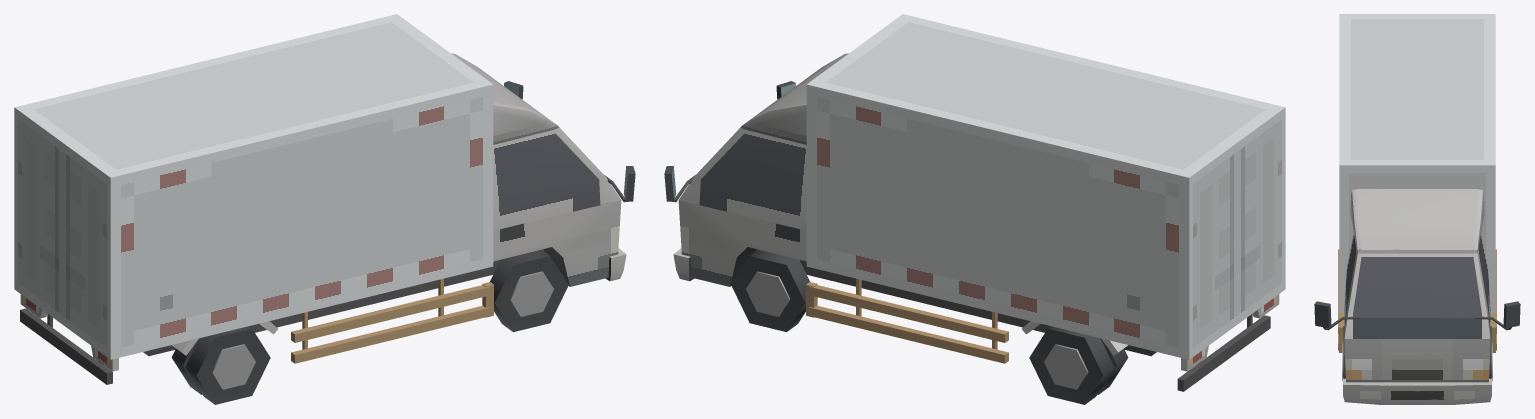
File: Universal_Transportation_MediumTruck_01_Mod.fbx
3 views of the same model, side by side, from view 1: azimuth 30°, elevation 25°; view 2: azimuth 150°, elevation 25°; view 3: azimuth 270°, elevation 25° (orthographic). The views are drawn at different scales.
Visible parts, largest first — view 1: Universal_Transportation_MediumTruck_01_Mod, Universal_Transportation_MediumTruck_FrontWheel_01; view 2: Universal_Transportation_MediumTruck_01_Mod, Universal_Transportation_MediumTruck_FrontWheel_02; view 3: Universal_Transportation_MediumTruck_01_Mod.
Part boxes in pixels (box(x1,y1,x2,y2)): Universal_Transportation_MediumTruck_01_Mod: box(14, 14, 635, 404); Universal_Transportation_MediumTruck_FrontWheel_01: box(490, 249, 568, 332); Universal_Transportation_MediumTruck_01_Mod: box(664, 14, 1285, 404); Universal_Transportation_MediumTruck_FrontWheel_02: box(731, 249, 809, 332); Universal_Transportation_MediumTruck_01_Mod: box(1314, 14, 1520, 404).
Size of the model in its own units: 636 by 298 by 269.
